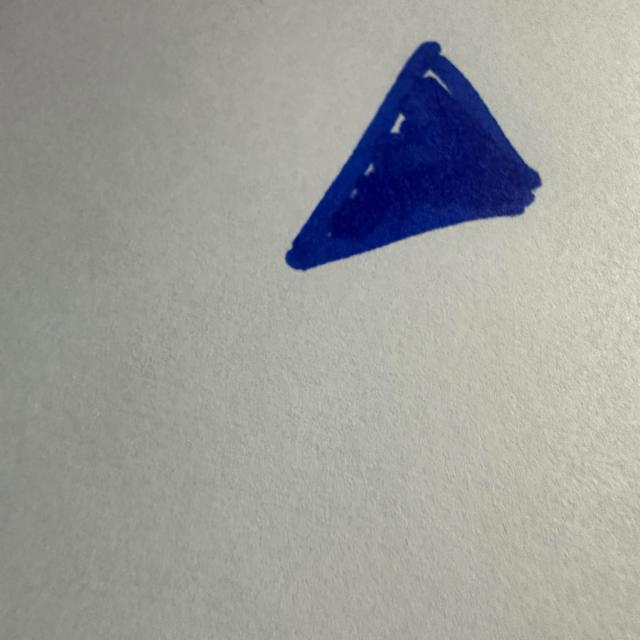Triangle: (286, 42, 541, 270)
